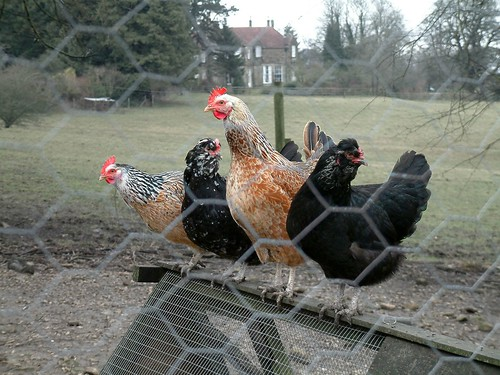chicken: (284, 126, 425, 297), (205, 73, 303, 288), (90, 143, 184, 273), (176, 126, 226, 274)
